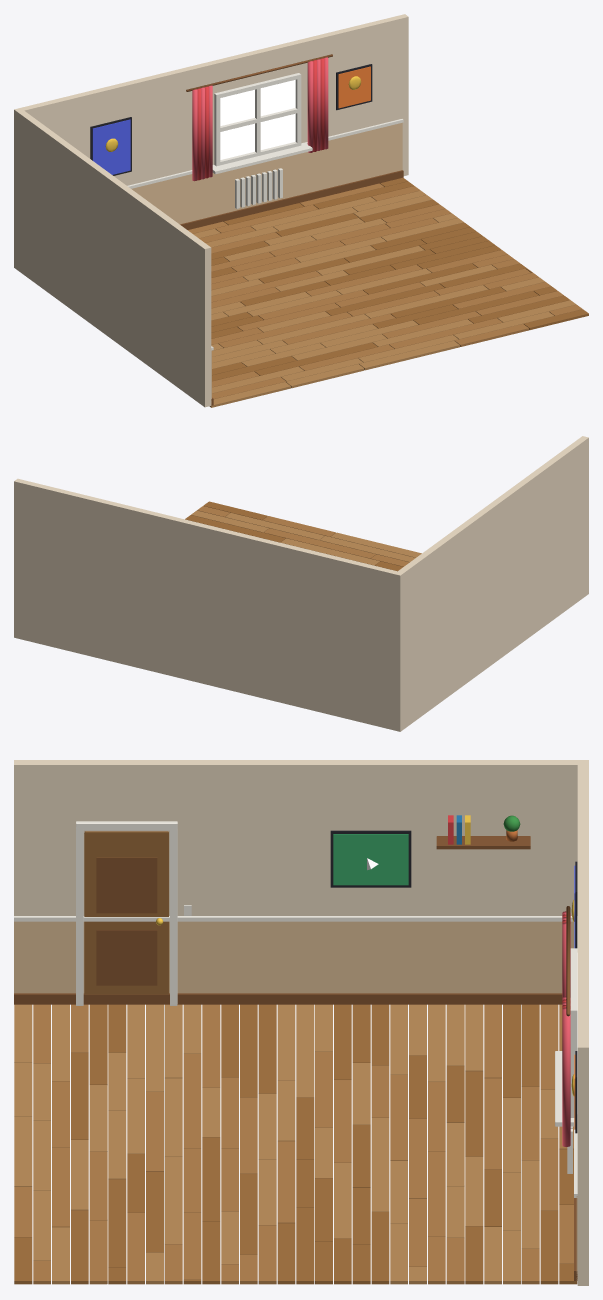
The model's file is mistnost.glb.
3 views of the same model, one above another, from view 1: azimuth 30°, elevation 25°; view 2: azimuth 150°, elevation 25°; view 3: azimuth 270°, elevation 25° (orthographic). The views are drawn at different scales.
Parts seen in each view (by area): view 1: mistnost; view 2: mistnost; view 3: mistnost.
Part boxes in pixels (x1,y1,x2,y2): mistnost: (14, 14, 588, 407); mistnost: (14, 436, 588, 731); mistnost: (14, 760, 588, 1285).
Size of the model in its own units: 7.24 by 2.84 by 6.12.
Materials: 2 (2 with a texture image).
